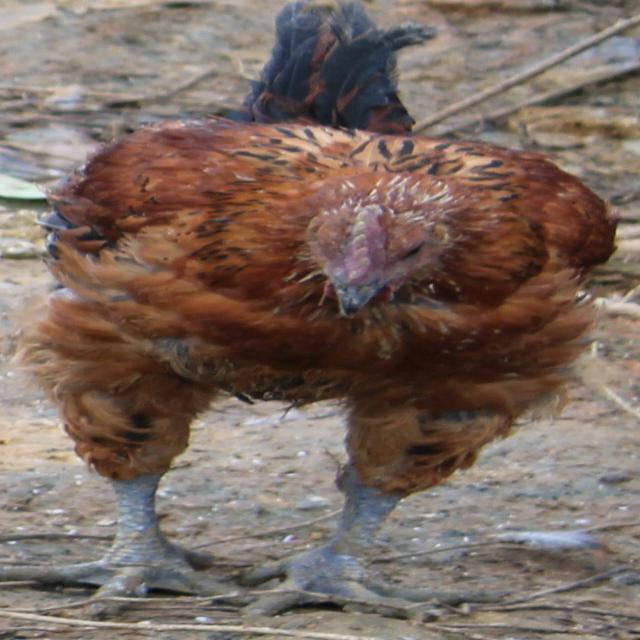hen: (5, 2, 614, 614)
